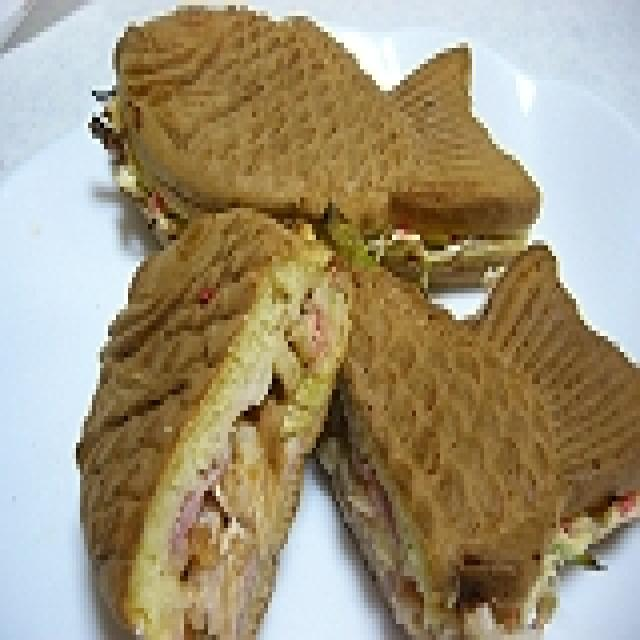熟制海鲜: (60, 0, 640, 640)
